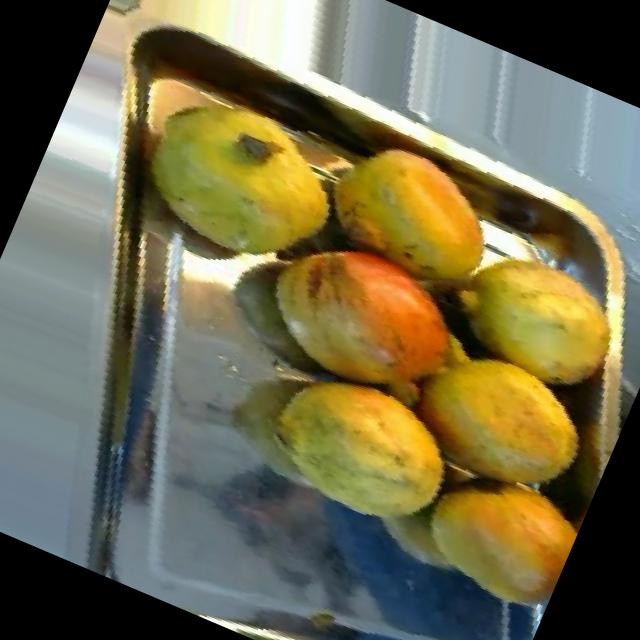fruit: (80, 59, 382, 314), (218, 198, 486, 432), (228, 340, 486, 560), (372, 314, 620, 530), (284, 111, 530, 321), (420, 216, 640, 420), (390, 440, 590, 629)
